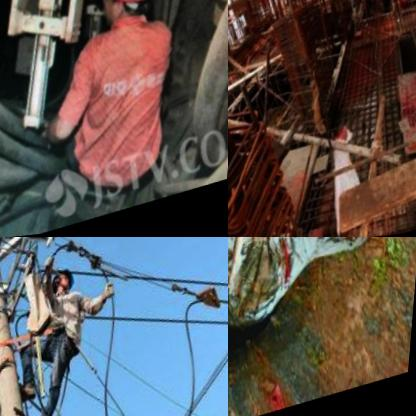helmet: (88, 0, 170, 41), (50, 265, 83, 304)
